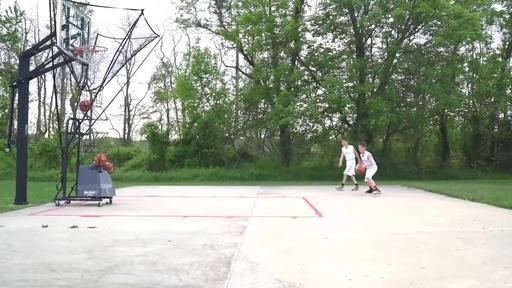ball: (94, 153, 107, 165), (79, 100, 92, 111), (354, 164, 366, 175), (104, 161, 112, 172)
human: (336, 137, 360, 191), (356, 142, 380, 194)
rim: (74, 45, 108, 73)
